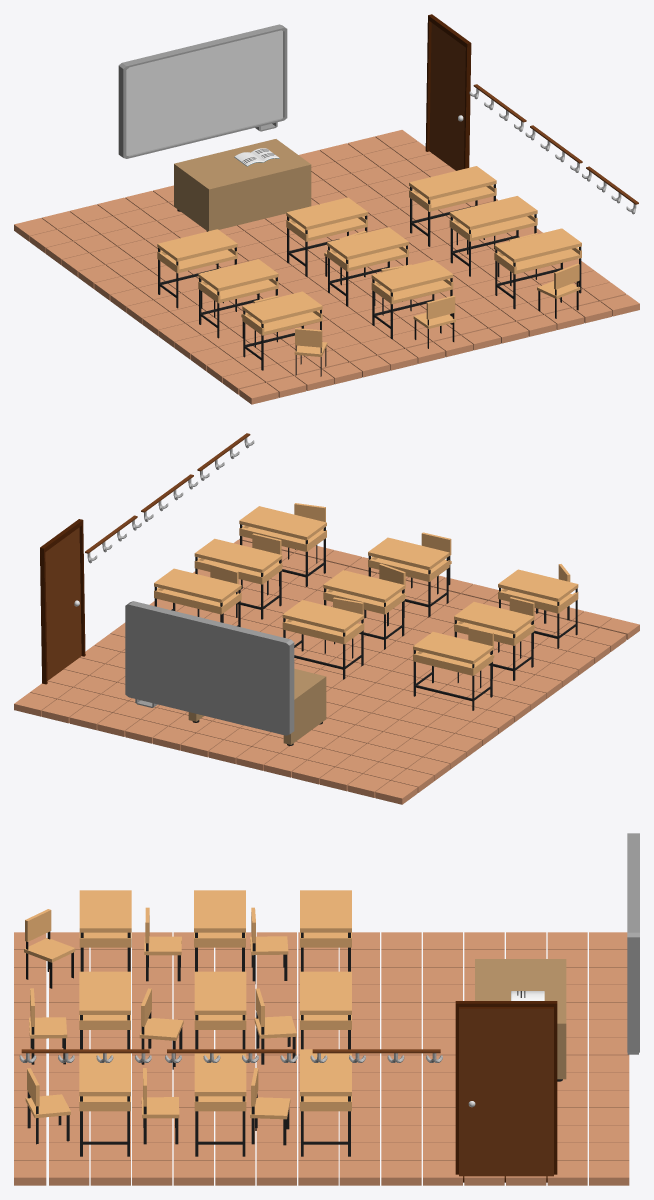
The model's file is classroom.glb.
3 renders of one model, top to bottom at view 1: azimuth 30°, elevation 25°; view 2: azimuth 150°, elevation 25°; view 3: azimuth 270°, elevation 25°, orthographic. The views are drawn at different scales.
Visible parts, largest first — view 1: Plane, Cube.591, Plane.003, Cube.207, Cube.205, Cube.626, Cube.203, Cube.201, Cube.197, Cube.625, Cube.199, Cube.627 (+19 smaller); view 2: Plane, Plane.003, Cube.627, Cube.625, Cube.207, Cube.626, Cube.205, Cube.203, Cube.199, Cube.201, Cube.197, Cube.591 (+31 smaller); view 3: Plane.003, Cube.591, Cube.205, Cube.626, Cube.207, Cube.201, Cube.199, Cube.634, Cube.203, Cube.625, Cube.197, Cube.627 (+131 smaller).
Part boxes in pixels (left/top/right/bottom): Plane: left=118, top=24, right=287, bottom=158; Cube.591: left=174, top=139, right=311, bottom=231; Plane.003: left=425, top=14, right=471, bottom=170; Cube.207: left=494, top=228, right=581, bottom=309; Cube.205: left=449, top=196, right=537, bottom=276; Cube.626: left=409, top=166, right=496, bottom=246; Cube.203: left=371, top=260, right=453, bottom=339; Cube.201: left=327, top=227, right=408, bottom=306; Cube.197: left=198, top=259, right=278, bottom=338; Cube.625: left=286, top=197, right=367, bottom=276; Cube.199: left=242, top=291, right=322, bottom=370; Cube.627: left=157, top=229, right=237, bottom=308; Plane: left=125, top=601, right=294, bottom=735; Plane.003: left=40, top=519, right=85, bottom=684; Cube.627: left=413, top=632, right=493, bottom=710; Cube.625: left=282, top=600, right=364, bottom=679; Cube.207: left=239, top=506, right=326, bottom=586; Cube.626: left=154, top=568, right=241, bottom=626; Cube.205: left=194, top=538, right=282, bottom=619; Cube.203: left=368, top=537, right=449, bottom=617; Cube.199: left=498, top=569, right=578, bottom=648; Cube.201: left=323, top=570, right=404, bottom=649; Cube.197: left=454, top=602, right=534, bottom=680; Cube.591: left=188, top=668, right=326, bottom=744; Plane.003: left=455, top=1001, right=557, bottom=1182; Cube.591: left=475, top=959, right=566, bottom=1079; Cube.205: left=194, top=1053, right=246, bottom=1156; Cube.626: left=300, top=1049, right=351, bottom=1156; Cube.207: left=79, top=1053, right=130, bottom=1156; Cube.201: left=194, top=971, right=246, bottom=1049; Cube.199: left=79, top=890, right=131, bottom=971; Cube.634: left=19, top=1049, right=442, bottom=1062; Cube.203: left=79, top=971, right=130, bottom=1049; Cube.625: left=300, top=971, right=351, bottom=1049; Cube.197: left=194, top=890, right=245, bottom=971; Cube.627: left=300, top=890, right=351, bottom=971.
Bounding box in the file's own units: 10.14 × 3.52 × 10.89.
